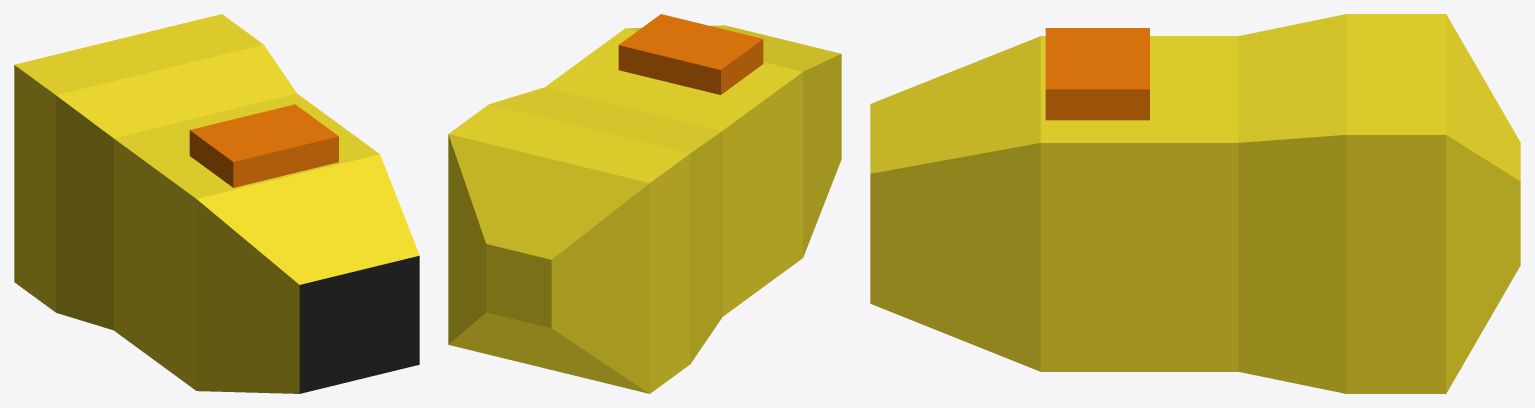
File: golden_wing.glb
The picture shows the model from 3 angles, left to right: view 1: azimuth 30°, elevation 25°; view 2: azimuth 150°, elevation 25°; view 3: azimuth 270°, elevation 25°; orthographic projection. The views are drawn at different scales.
Visible parts, largest first — view 1: Cube.001; view 2: Cube.001; view 3: Cube.001.
Part boxes in pixels (x1,y1,x2,y2): Cube.001: (14, 14, 419, 393); Cube.001: (448, 14, 841, 393); Cube.001: (870, 14, 1520, 393).
Bounding box in the file's own units: 0.3324 × 0.3525 × 0.7556.
Materials: 1 (1 with a texture image).
